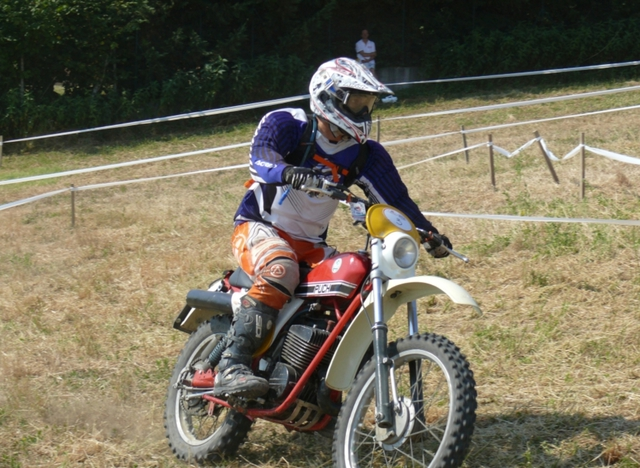helmet: (312, 62, 384, 135)
